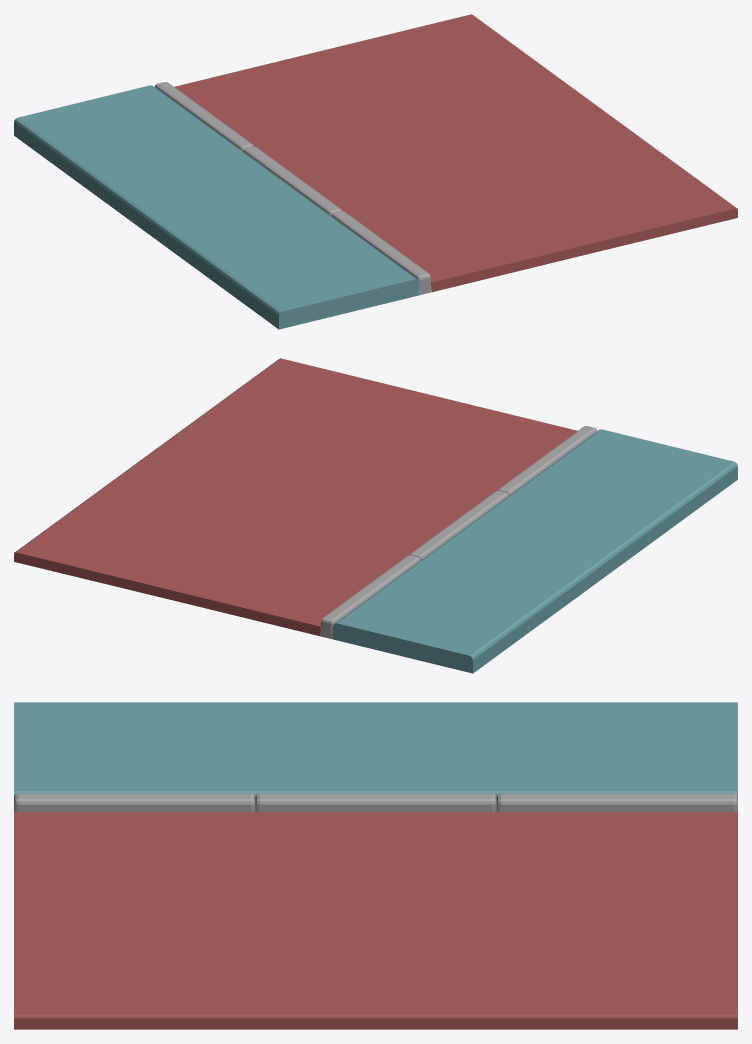
The model's file is obj_street_3x3.fbx.
The picture shows the model from 3 angles, top to bottom: view 1: azimuth 30°, elevation 25°; view 2: azimuth 150°, elevation 25°; view 3: azimuth 270°, elevation 25°; orthographic projection. The views are drawn at different scales.
Visible parts, largest first — view 1: obj_street_3x3; view 2: obj_street_3x3; view 3: obj_street_3x3.
Boxes of the visible parts, box(x1,y1,x2,y2) form: obj_street_3x3: box(14, 14, 737, 329); obj_street_3x3: box(14, 358, 737, 673); obj_street_3x3: box(14, 702, 737, 1029).
Bounding box in the file's own units: 168 × 6.44 × 168.
